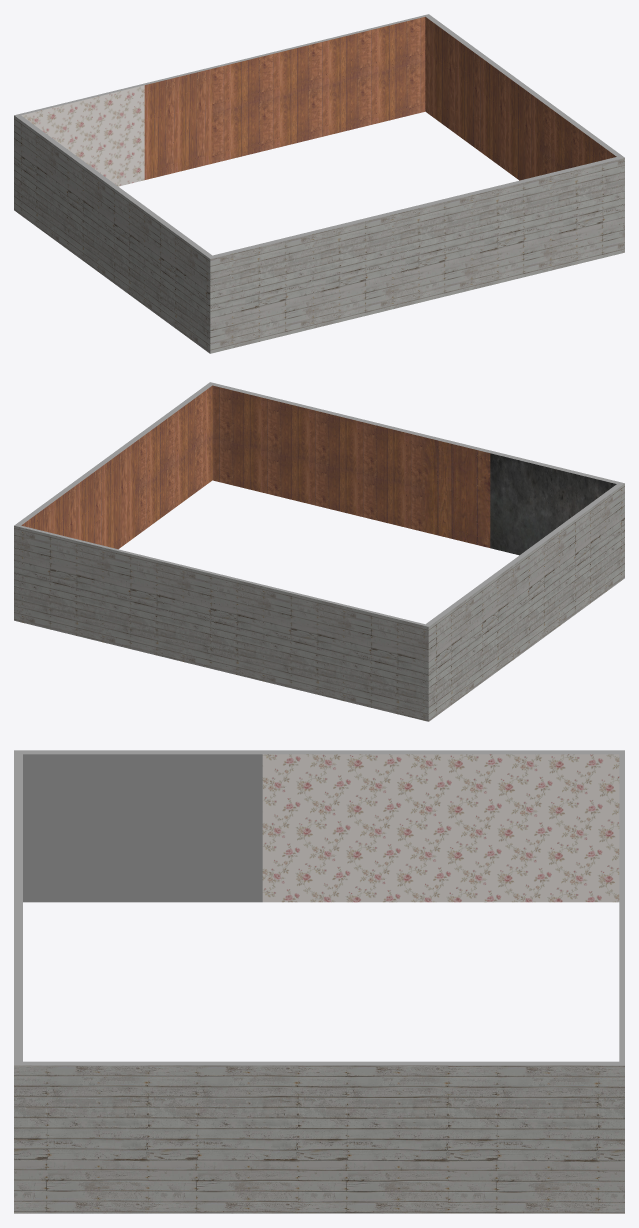
The model's file is FarmhouseWithSiding.fbx.
3 renders of one model, top to bottom at view 1: azimuth 30°, elevation 25°; view 2: azimuth 150°, elevation 25°; view 3: azimuth 270°, elevation 25°, orthographic. The views are drawn at different scales.
Parts seen in each view (by area): view 1: FarmhouseWalls; view 2: FarmhouseWalls; view 3: FarmhouseWalls.
Boxes of the visible parts, x1,y1,x2,y2 form: FarmhouseWalls: (14, 14, 624, 353); FarmhouseWalls: (14, 382, 624, 721); FarmhouseWalls: (14, 750, 624, 1213).
Bounding box in the file's own units: 56.31 × 12.32 × 46.12.
